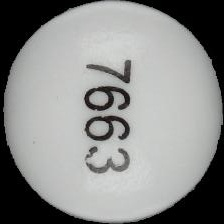54868-5261: (0, 0, 224, 224)
